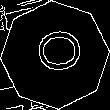O_W: (28, 31, 82, 79)
